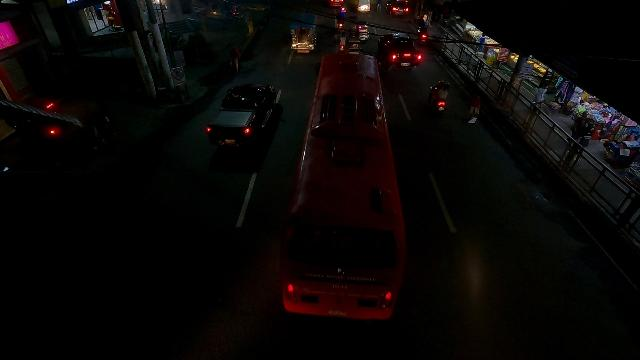bus: (282, 53, 404, 324)
car: (429, 78, 450, 120), (385, 0, 411, 17), (417, 19, 429, 43)
jeepney: (287, 5, 318, 57)
pickup-truck: (206, 82, 279, 147)
truck: (377, 32, 423, 69)
